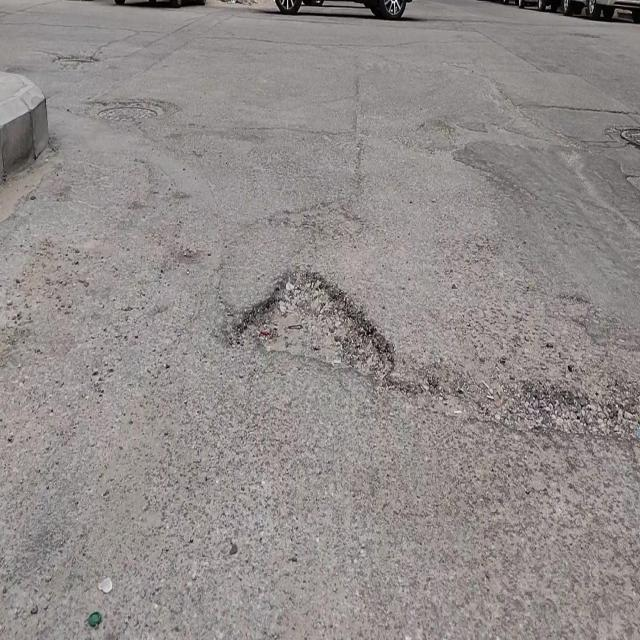Pothole: (225, 264, 401, 386)
